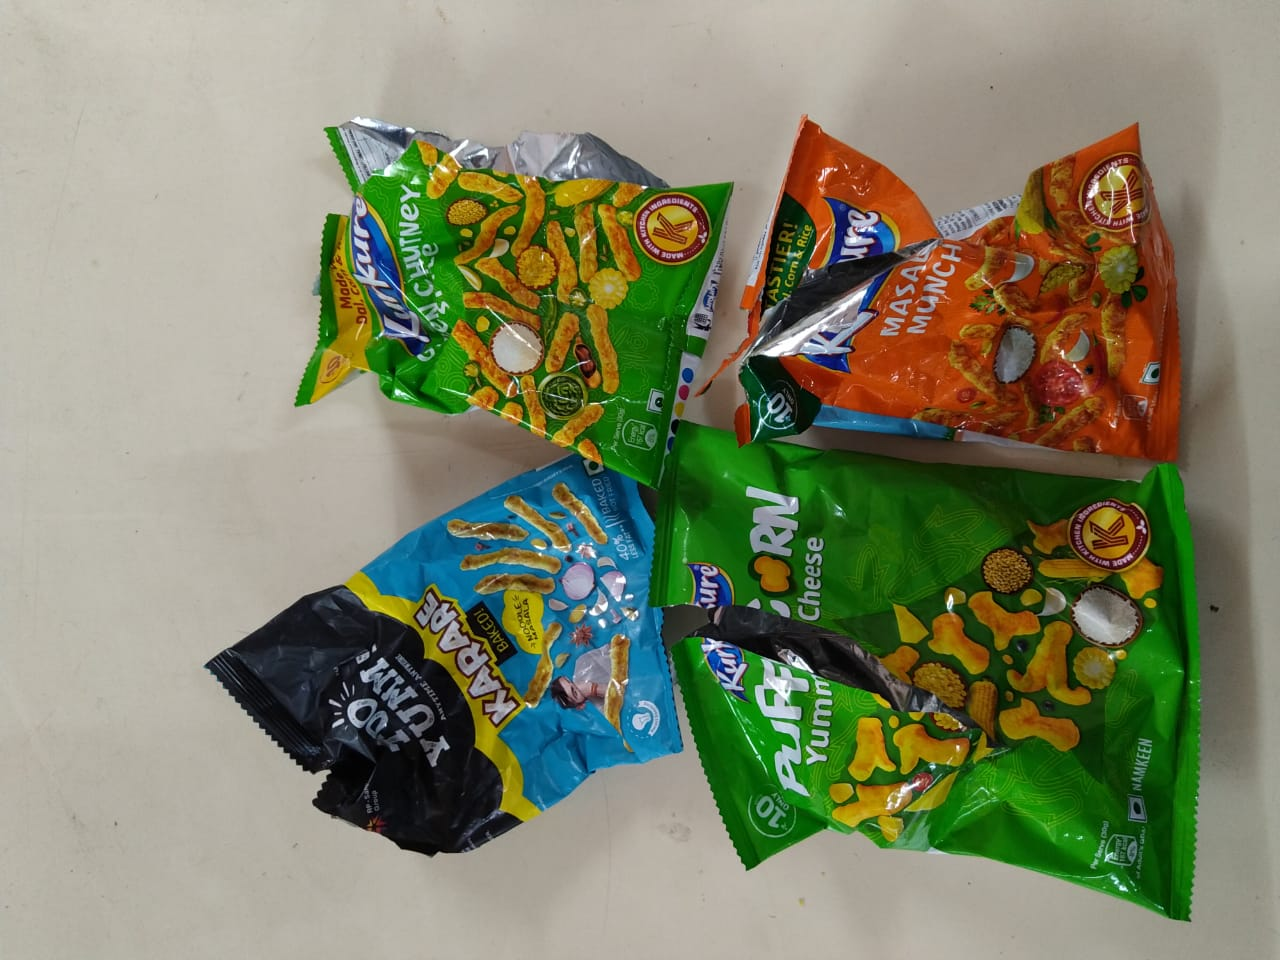kurkure: (343, 193, 445, 359), (809, 185, 945, 309), (683, 557, 775, 719), (787, 251, 895, 387), (343, 119, 431, 281), (679, 539, 747, 623), (699, 625, 753, 699)
plastic: (273, 81, 1203, 929)
tooyumm: (331, 629, 461, 783), (349, 641, 451, 757)
wrapper: (649, 401, 1201, 919), (715, 101, 1207, 455), (305, 111, 729, 499), (263, 455, 711, 797)
